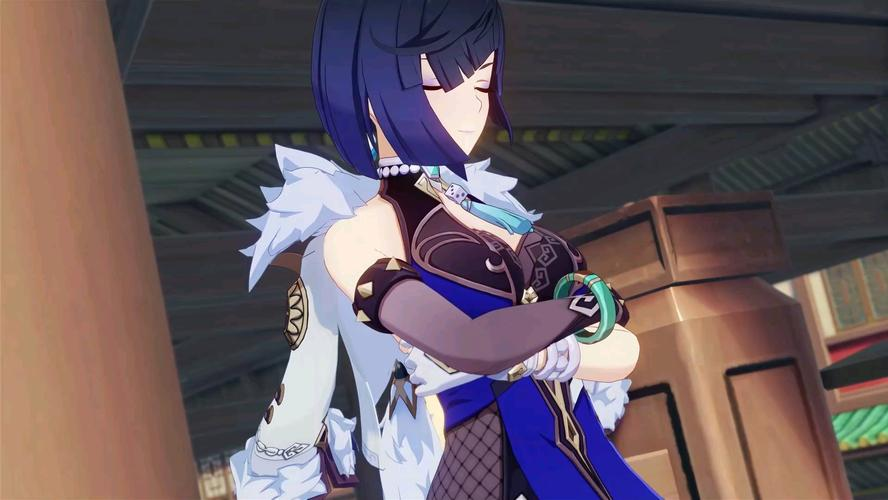夜兰: (310, 2, 661, 500)
